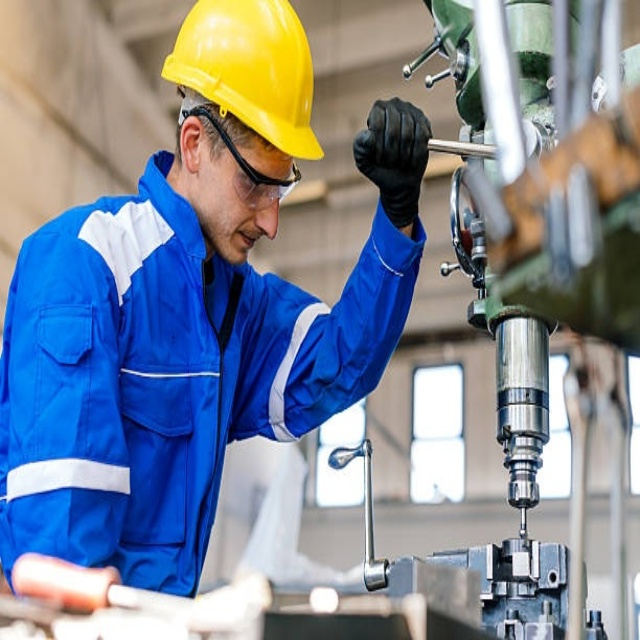Gafas: (182, 103, 300, 207)
Guantes: (351, 97, 429, 228)
Sin_mascara: (226, 213, 275, 262)
